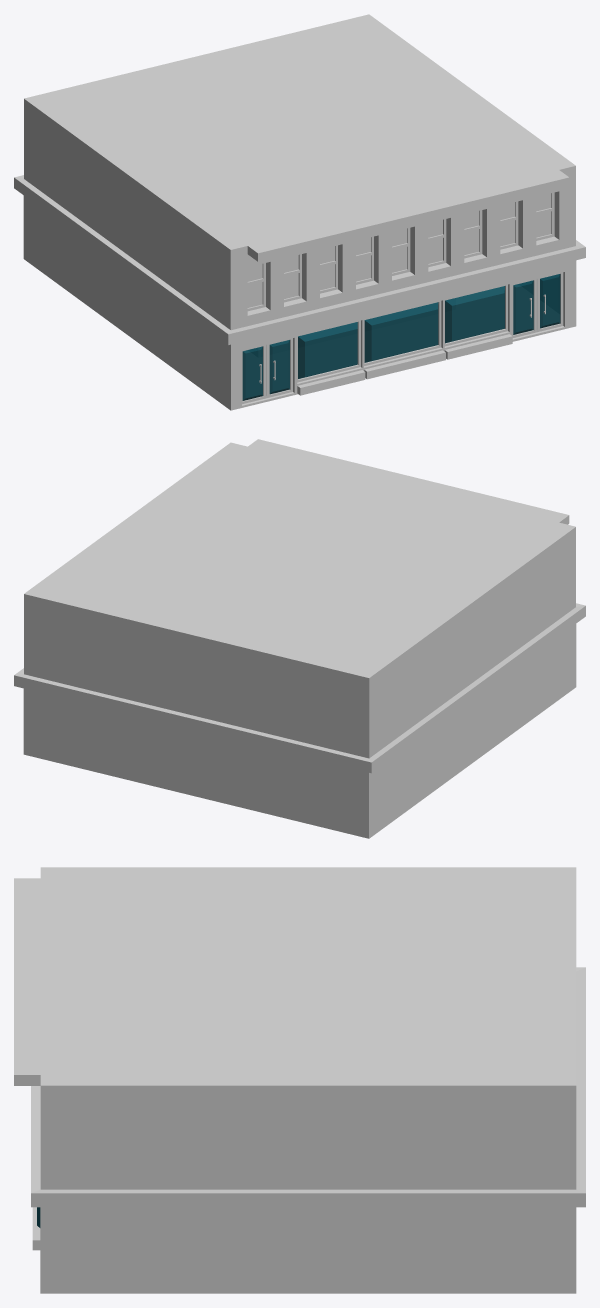
File: building_office_01_base.fbx
3 renders of one model, top to bottom at view 1: azimuth 30°, elevation 25°; view 2: azimuth 150°, elevation 25°; view 3: azimuth 270°, elevation 25°, orthographic. The views are drawn at different scales.
Parts seen in each view (by area): view 1: building_office_01_base, building_office_01_base_glass; view 2: building_office_01_base; view 3: building_office_01_base.
Boxes of the visible parts, <box> form: building_office_01_base: <box>14,14,585,410</box>; building_office_01_base_glass: <box>242,274,560,400</box>; building_office_01_base: <box>14,439,585,838</box>; building_office_01_base: <box>14,867,585,1293</box>.
Bounding box in the file's own units: 1864 × 800 × 1995.
